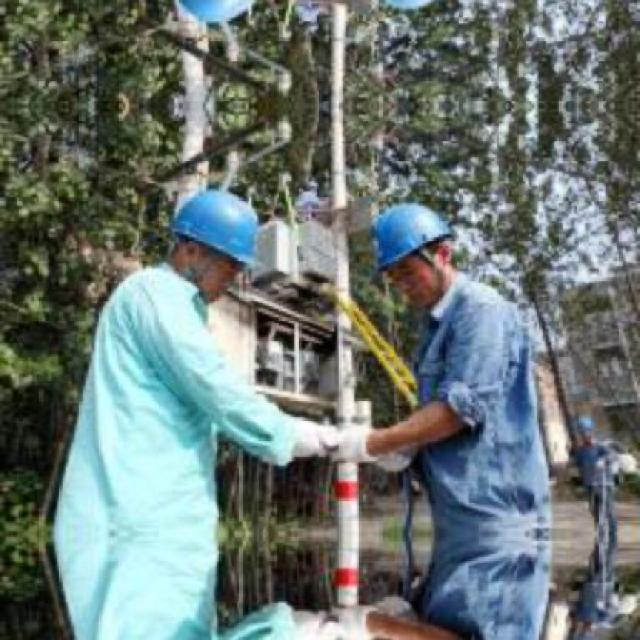con casco: (128, 172, 299, 324), (357, 178, 493, 280)
